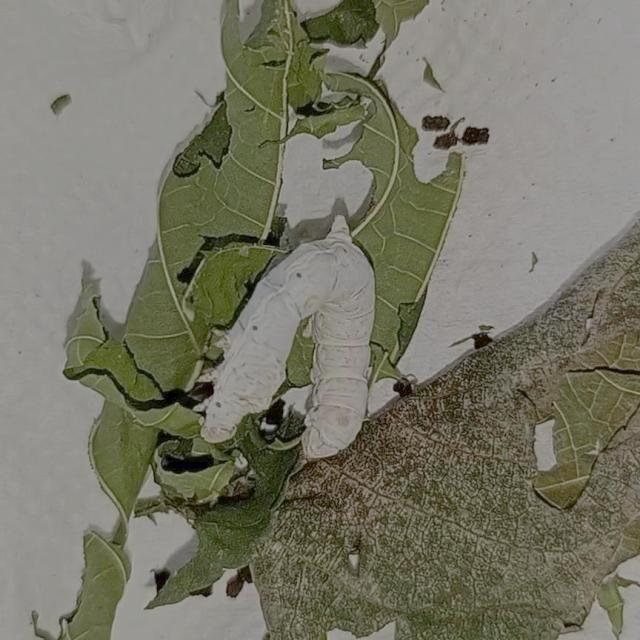Healthy: (171, 175, 419, 502)
